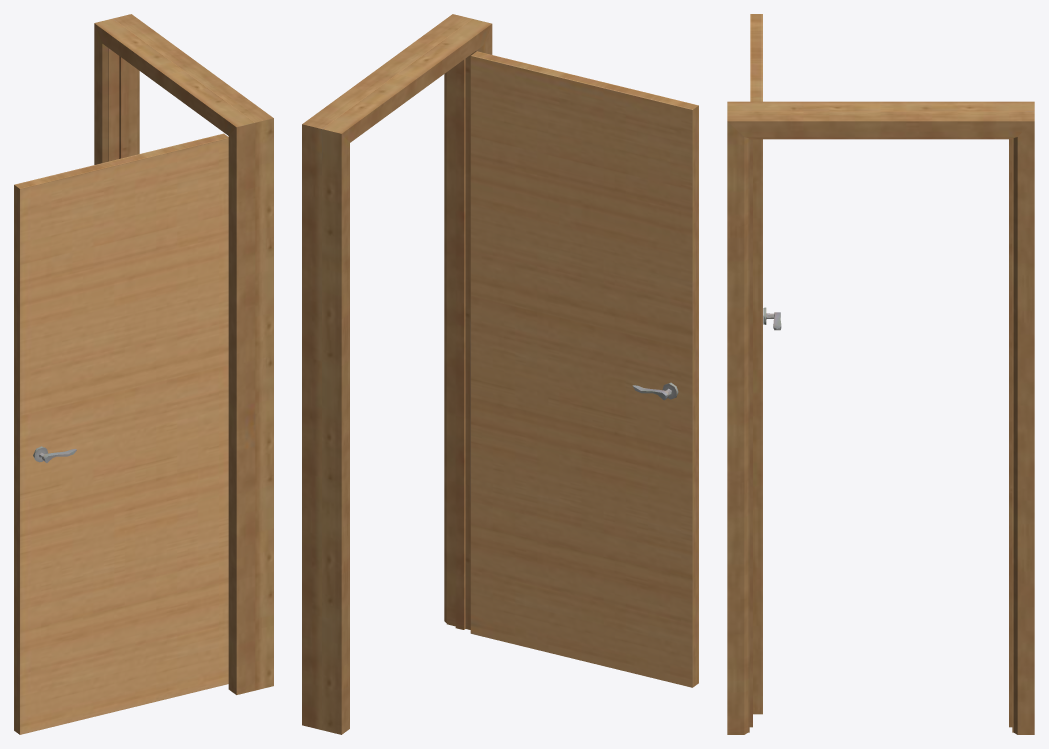
The model's file is Door0020open.obj.
3 renders of one model, left to right at view 1: azimuth 30°, elevation 25°; view 2: azimuth 150°, elevation 25°; view 3: azimuth 270°, elevation 25°, orthographic. The views are drawn at different scales.
Bounding box in the file's own units: 0.951 × 2.12 × 0.964.
1 material, 1 textured.
